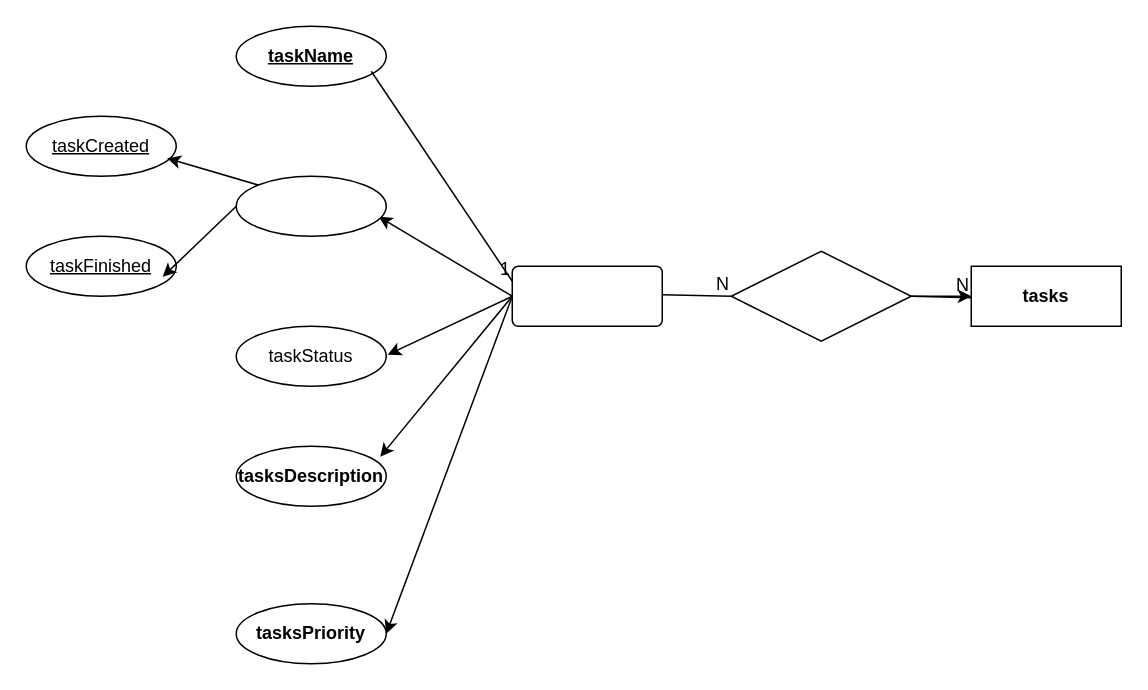
The diagram is 1148 pixels wide and 690 high, and some of its shapes have lost their labels. The centre of each missing label's shape, as x and y in pixels:
"has" goes at (x=820, y=295).
"tasksList" goes at (x=586, y=295).
"taskTime" goes at (x=310, y=205).
